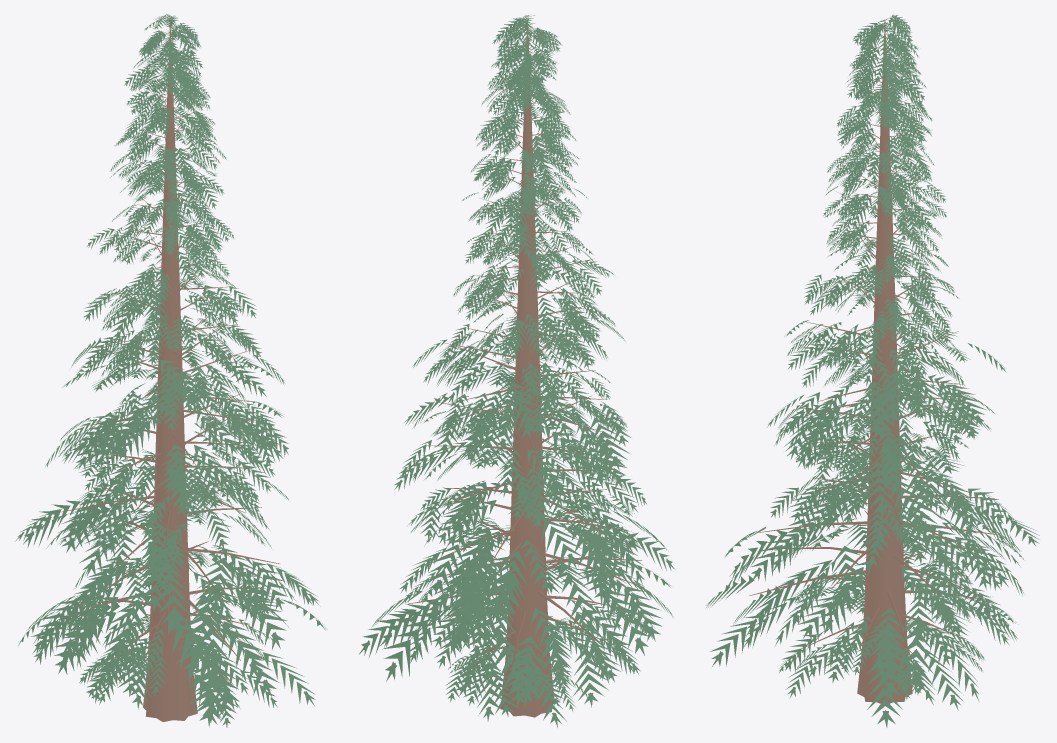
File: Blender_YoungRedwood_3.glb
3 renders of one model, left to right at view 1: azimuth 30°, elevation 25°; view 2: azimuth 150°, elevation 25°; view 3: azimuth 270°, elevation 25°, orthographic. The views are drawn at different scales.
Parts seen in each view (by area): view 1: Blender_YoungRedwood_3; view 2: Blender_YoungRedwood_3; view 3: Blender_YoungRedwood_3.
Part boxes in pixels (left/top/right/bottom): Blender_YoungRedwood_3: left=15, top=14, right=327, bottom=727; Blender_YoungRedwood_3: left=359, top=15, right=674, bottom=727; Blender_YoungRedwood_3: left=706, top=14, right=1039, bottom=727.
Bounding box in the file's own units: 15.03 × 33.65 × 15.19.
